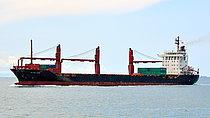Ship: (8, 33, 203, 90)
